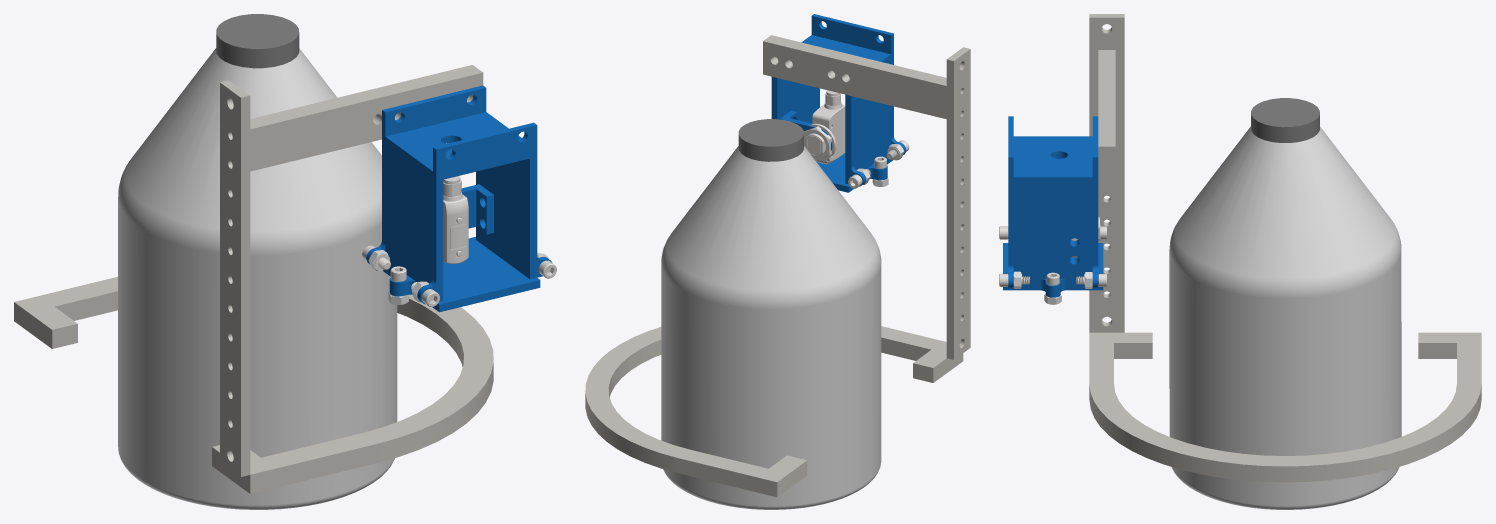
Rendered from acid_cabinet.gltf.
The picture shows the model from 3 angles, left to right: view 1: azimuth 30°, elevation 25°; view 2: azimuth 150°, elevation 25°; view 3: azimuth 270°, elevation 25°; orthographic projection. The views are drawn at different scales.
Visible parts, largest first — view 1: 3DGeom~505, Body_1 (×7), 3DGeom~504; view 2: 3DGeom~505, Body_1 (×6), 3DGeom~504; view 3: 3DGeom~505, Body_1 (×5), 3DGeom~504.
Boxes of the visible parts, x1,y1,x2,y2 form: 3DGeom~505: [118, 48, 397, 509]; Body_1 (×7): [14, 65, 552, 493]; 3DGeom~504: [216, 14, 299, 68]; 3DGeom~505: [661, 146, 881, 509]; Body_1 (×6): [585, 14, 970, 497]; 3DGeom~504: [738, 119, 803, 161]; 3DGeom~505: [1169, 126, 1401, 509]; Body_1 (×5): [1003, 14, 1481, 482]; 3DGeom~504: [1251, 98, 1319, 142].
Size of the model in its own units: 0.235 by 0.3145 by 0.3482.
